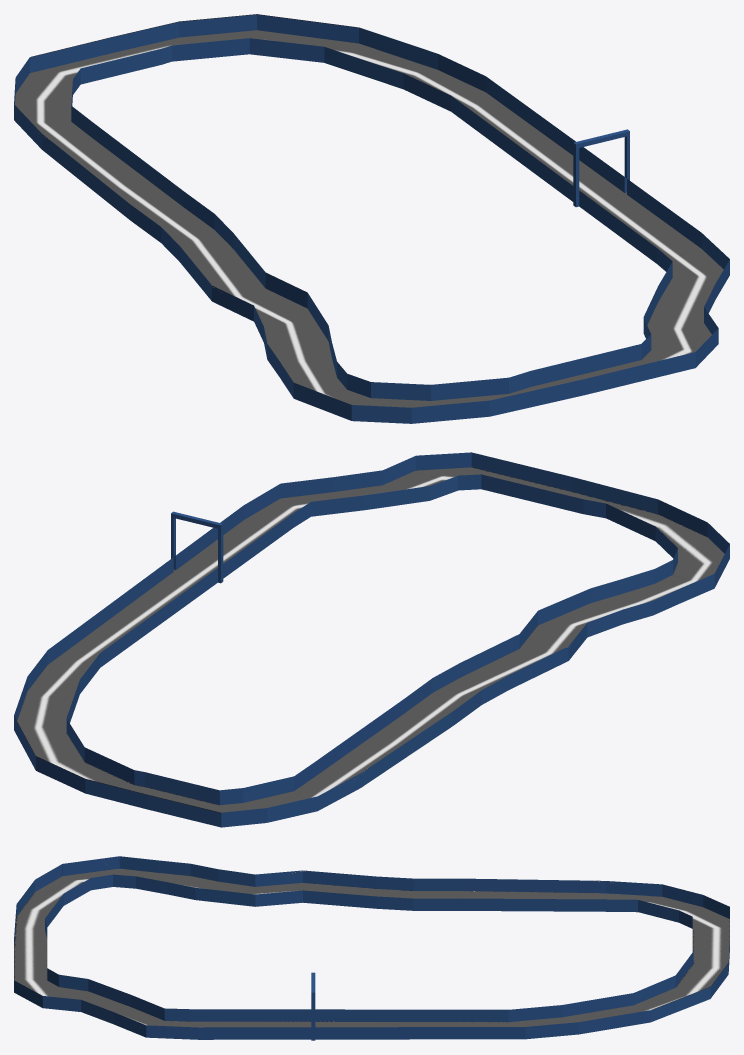
File: carretera.obj
3 views of the same model, one above another, from view 1: azimuth 30°, elevation 25°; view 2: azimuth 150°, elevation 25°; view 3: azimuth 270°, elevation 25° (orthographic). The views are drawn at different scales.
Visible parts, largest first — view 1: Plane; view 2: Plane; view 3: Plane.
Part boxes in pixels (x1=…): Plane: x1=14, y1=14, x2=729, y2=423; Plane: x1=14, y1=452, x2=729, y2=827; Plane: x1=14, y1=856, x2=729, y2=1040.
Size of the model in its own units: 194 by 25.24 by 341.
1 material, 1 textured.
